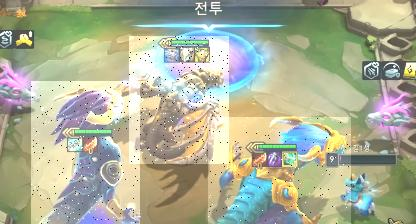3_aoshin: (208, 117, 351, 224)
3_aurelionsol: (31, 81, 140, 224)
3_terra: (129, 36, 229, 164)
